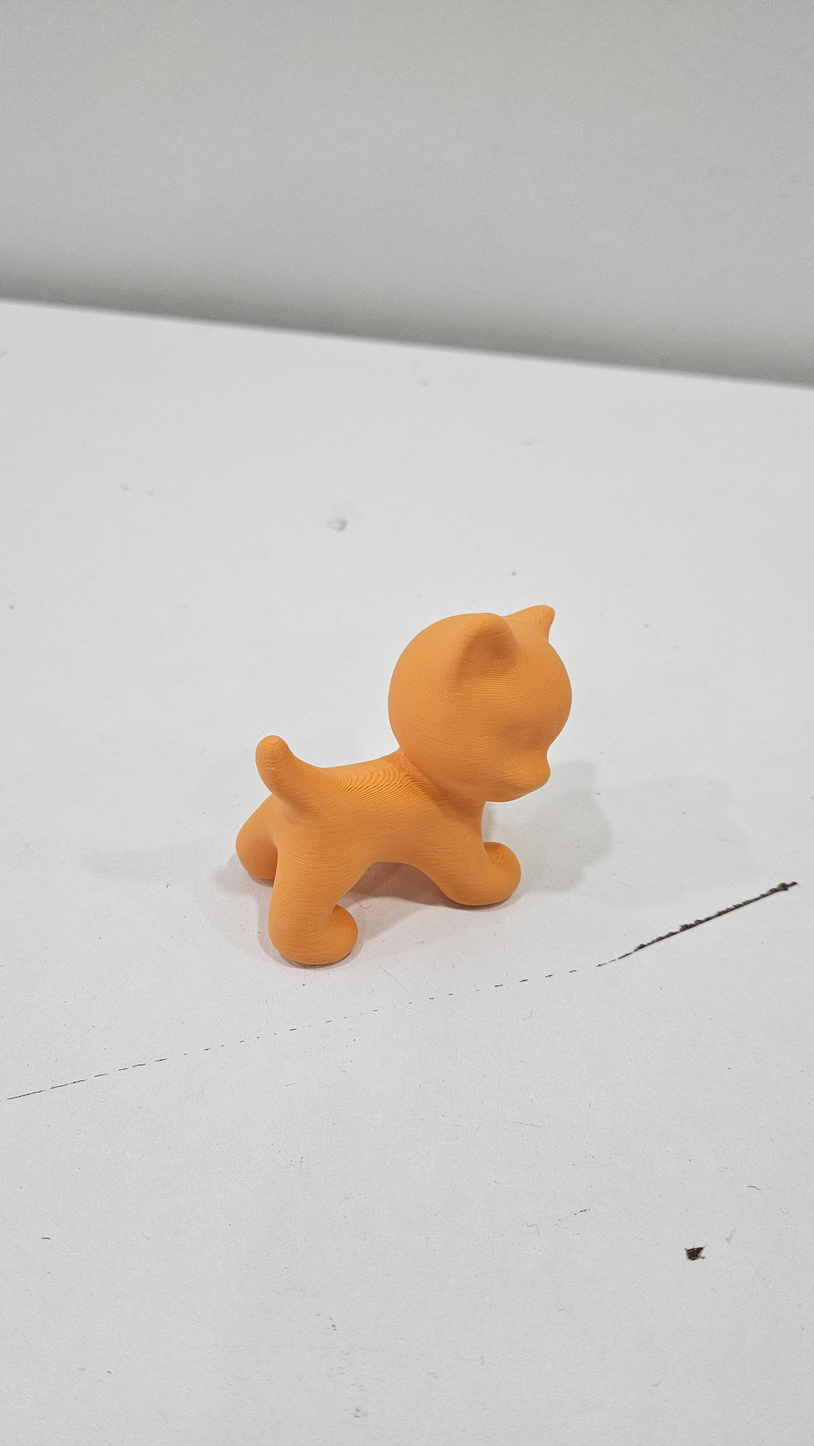cat: (228, 596, 577, 974)
